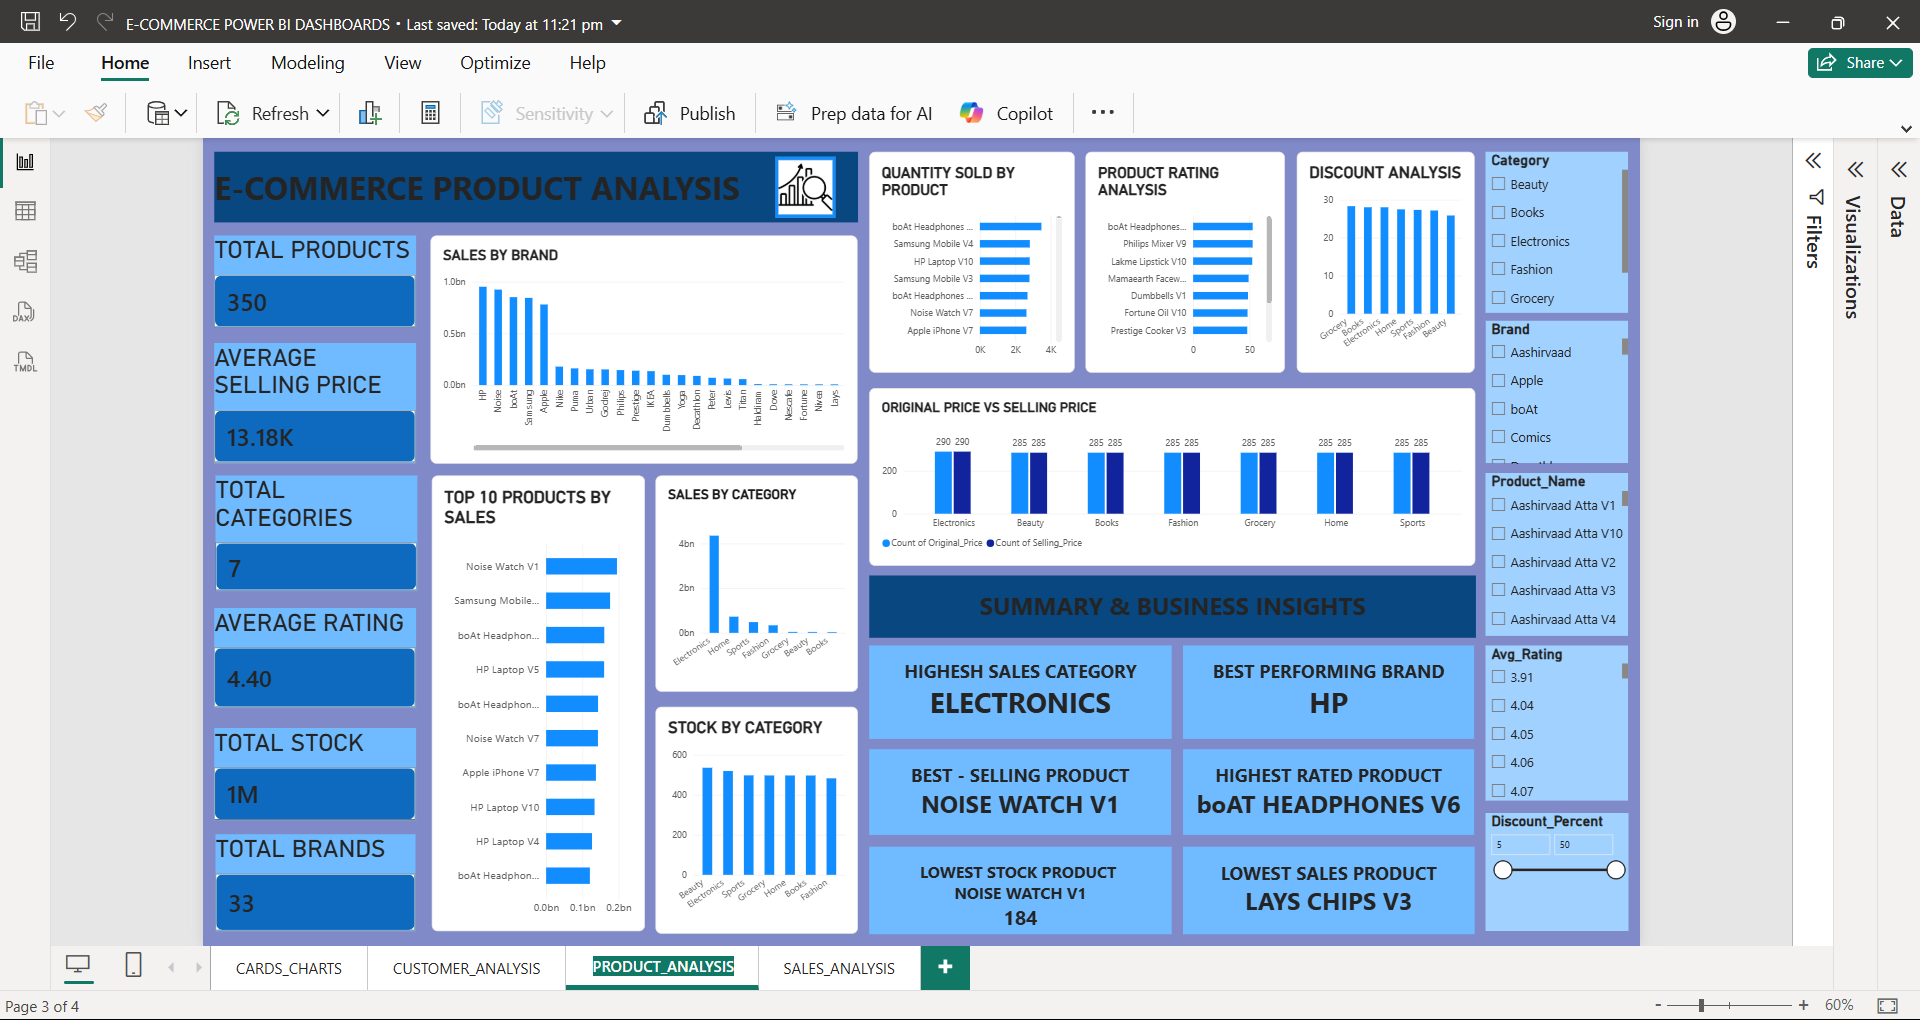

What the dashboard file says about the page in this screenshot:
{"tool":"powerbi","page":{"name":"PRODUCT_ANALYSIS","canvas":[1920,1080],"ordinal":2},"visuals":[{"type":"textbox","box":[14.4,18.5,860.4,94.7],"z":0},{"type":"cardVisual","title":"TOTAL PRODUCTS","fields":{"Data":["Count(products.Product_Name)"]},"box":[14.4,129.7,269.6,123.5],"z":1000},{"type":"cardVisual","title":"TOTAL CATEGORIES","fields":{"Data":["Count(products.Category)"]},"box":[16.5,450.8,269.6,154.4],"z":2000},{"type":"cardVisual","title":"AVERAGE SELLING PRICE","fields":{"Data":["Avg(products.Selling_Price)"]},"box":[14.4,273.8,269.6,160.5],"z":3000},{"type":"cardVisual","title":"TOTAL BRANDS","fields":{"Data":["Count(products.Brand)"]},"box":[16.5,930.4,267.6,129.7],"z":4000},{"type":"cardVisual","title":"AVERAGE RATING","fields":{"Data":["Avg(products.Avg_Rating)"]},"box":[14.4,627.8,269.6,133.8],"z":5000},{"type":"cardVisual","title":"TOTAL STOCK","fields":{"Data":["Sum(products.Stock_Quantity)"]},"box":[14.4,788.3,269.6,123.5],"z":6000},{"type":"columnChart","title":"SALES BY CATEGORY ","fields":{"Category":["products.Category"],"Y":["Sum(sales.Order_Value)"]},"box":[604.6,450.9,270.5,289],"z":7000},{"type":"columnChart","title":"SALES BY BRAND","fields":{"Category":["products.Brand"],"Y":["Sum(sales.Order_Value)"]},"box":[304.6,129.7,570.2,304.6],"z":8000},{"type":"clusteredBarChart","title":"TOP 10 PRODUCTS BY SALES","fields":{"Category":["products.Product_Name"],"Y":["Sum(sales.Order_Value)"]},"box":[305.4,450.9,284.9,608.7],"z":9000},{"type":"clusteredBarChart","title":"QUANTITY SOLD BY PRODUCT","fields":{"Category":["products.Product_Name"],"Y":["Sum(sales.Quantity)"]},"box":[889.5,18.4,274.6,295.1],"z":10000},{"type":"barChart","title":"PRODUCT RATING ANALYSIS","fields":{"Category":["products.Product_Name"],"Y":["Sum(products.Avg_Rating)"]},"box":[1178.5,18.4,266.4,295.1],"z":11000},{"type":"columnChart","title":"DISCOUNT ANALYSIS","fields":{"Category":["products.Category"],"Y":["Avg(products.Discount_Percent)"]},"box":[1461.3,18.4,237.7,295.1],"z":12000},{"type":"clusteredColumnChart","title":"STOCK BY CATEGORY","fields":{"Category":["products.Category"],"Y":["Avg(products.Stock_Quantity)"]},"box":[604.6,760.4,270.5,303.3],"z":13000},{"type":"clusteredColumnChart","title":"ORIGINAL PRICE VS SELLING PRICE","fields":{"Category":["products.Category"],"Y":["CountNonNull(products.Original_Price)","CountNonNull(products.Selling_Price)"]},"box":[889.5,334.1,809.6,237.7],"z":14000},{"type":"slicer","fields":{"Values":["products.Category"]},"box":[1713.4,18.4,190.6,215.2],"z":15000},{"type":"slicer","fields":{"Values":["products.Brand"]},"box":[1713.4,243.9,190.6,190.6],"z":16000},{"type":"slicer","fields":{"Values":["products.Avg_Rating"]},"box":[1713.4,678.4,190.6,207],"z":17000},{"type":"slicer","fields":{"Values":["products.Discount_Percent"]},"box":[1713.4,901.8,190.6,157.8],"z":18000},{"type":"slicer","fields":{"Values":["products.Product_Name"]},"box":[1713.4,446.8,190.6,217.3],"z":19000},{"type":"textbox","box":[889.5,584.1,810.7,83.2],"z":20000},{"type":"textbox","box":[889.5,678.4,403.8,125],"z":21000},{"type":"textbox","box":[1309.7,678.4,389.1,124.9],"z":22000},{"type":"textbox","box":[889.5,815.7,403.6,114],"z":23000},{"type":"textbox","box":[1309.7,815.7,389.1,114],"z":24000},{"type":"textbox","box":[889.5,946.9,403.8,116.8],"z":25000},{"type":"textbox","box":[1309.7,946.9,389.4,116.8],"z":26000},{"type":"textbox","box":[100.4,100.4,299.2,133.2],"z":27000},{"type":"textbox","box":[1309.7,946.9,389.4,116.8],"z":28000},{"type":"image","box":[765.5,25.3,79.6,81.4],"z":29000}]}

Visuals, with their boxes on the page's 1920x1080 design canvas (x1, y1, x2, y2). These are canvas units, not pixel positions in the 1920x1020 screenshot, which may show the page scaled, cropped or inside an application window:
textbox: box=[14, 18, 875, 113]
"TOTAL PRODUCTS" cardVisual: box=[14, 130, 284, 253]
"TOTAL CATEGORIES" cardVisual: box=[16, 451, 286, 605]
"AVERAGE SELLING PRICE" cardVisual: box=[14, 274, 284, 434]
"TOTAL BRANDS" cardVisual: box=[16, 930, 284, 1060]
"AVERAGE RATING" cardVisual: box=[14, 628, 284, 762]
"TOTAL STOCK" cardVisual: box=[14, 788, 284, 912]
"SALES BY CATEGORY " columnChart: box=[605, 451, 875, 740]
"SALES BY BRAND" columnChart: box=[305, 130, 875, 434]
"TOP 10 PRODUCTS BY SALES" clusteredBarChart: box=[305, 451, 590, 1060]
"QUANTITY SOLD BY PRODUCT" clusteredBarChart: box=[890, 18, 1164, 314]
"PRODUCT RATING ANALYSIS" barChart: box=[1178, 18, 1445, 314]
"DISCOUNT ANALYSIS" columnChart: box=[1461, 18, 1699, 314]
"STOCK BY CATEGORY" clusteredColumnChart: box=[605, 760, 875, 1064]
"ORIGINAL PRICE VS SELLING PRICE" clusteredColumnChart: box=[890, 334, 1699, 572]
slicer - products.Category: box=[1713, 18, 1904, 234]
slicer - products.Brand: box=[1713, 244, 1904, 434]
slicer - products.Avg_Rating: box=[1713, 678, 1904, 885]
slicer - products.Discount_Percent: box=[1713, 902, 1904, 1060]
slicer - products.Product_Name: box=[1713, 447, 1904, 664]
textbox: box=[890, 584, 1700, 667]
textbox: box=[890, 678, 1293, 803]
textbox: box=[1310, 678, 1699, 803]
textbox: box=[890, 816, 1293, 930]
textbox: box=[1310, 816, 1699, 930]
textbox: box=[890, 947, 1293, 1064]
textbox: box=[1310, 947, 1699, 1064]
textbox: box=[100, 100, 400, 234]
textbox: box=[1310, 947, 1699, 1064]
image: box=[766, 25, 845, 107]
